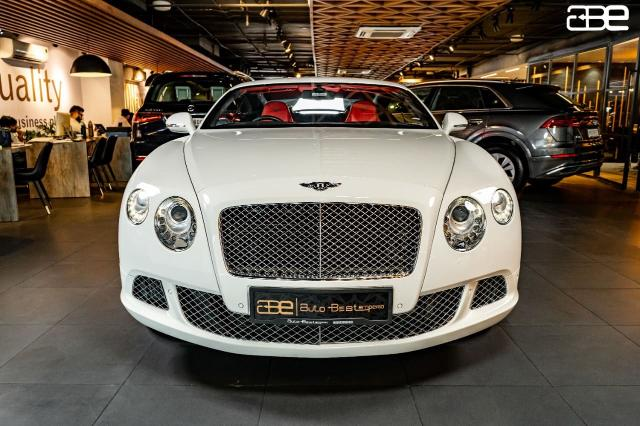bentley: (118, 76, 522, 360)
